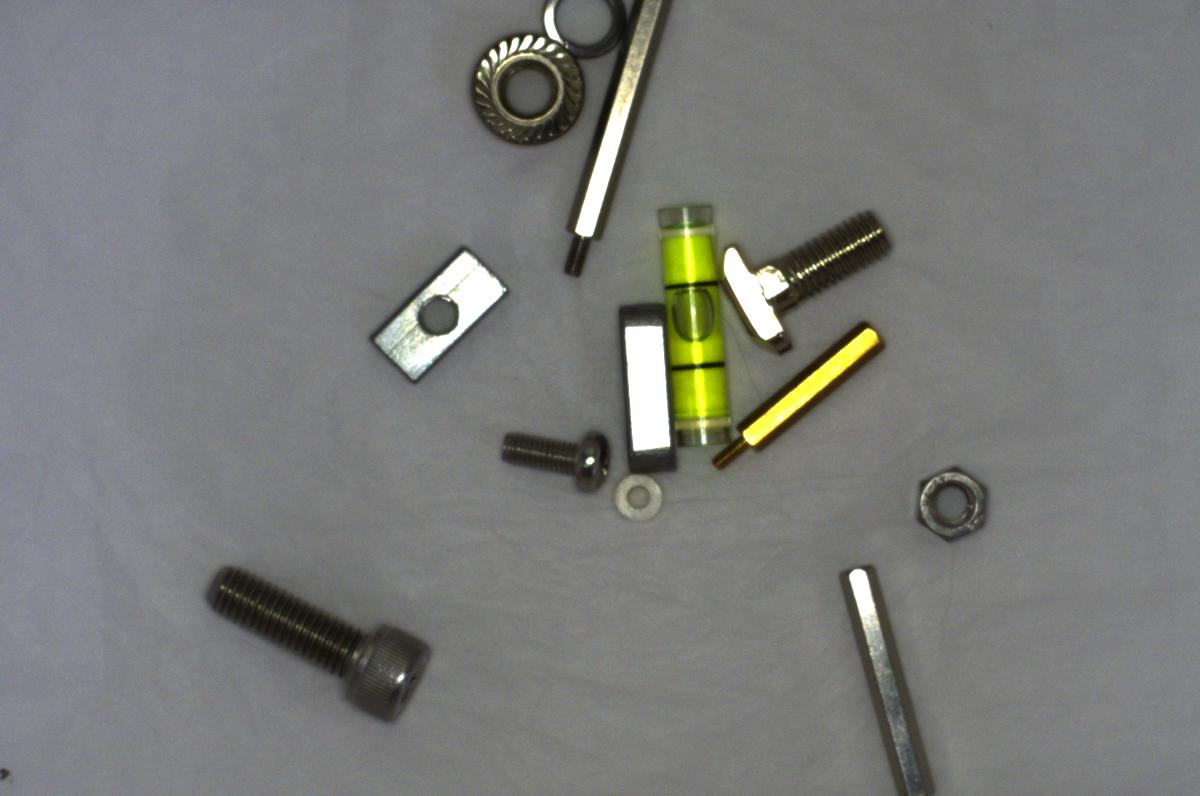Double hexagonal column: (825, 548, 947, 795)
Flange nut: (464, 24, 592, 153)
Hexagon nut: (906, 455, 992, 548)
Hexagon pillar: (697, 317, 897, 473)
Hexagon screw: (198, 555, 444, 736)
Hexagonal steel column: (564, 0, 696, 263)
Horizontal bubble: (648, 196, 735, 456)
Keybar: (610, 295, 689, 478)
Plastic cushion pillar: (610, 462, 669, 526)
Rectangular nut: (361, 235, 517, 387)
Round head screw: (489, 421, 620, 495)
Spring washer: (534, 6, 660, 60)
T-shaped screw: (717, 199, 905, 356)
